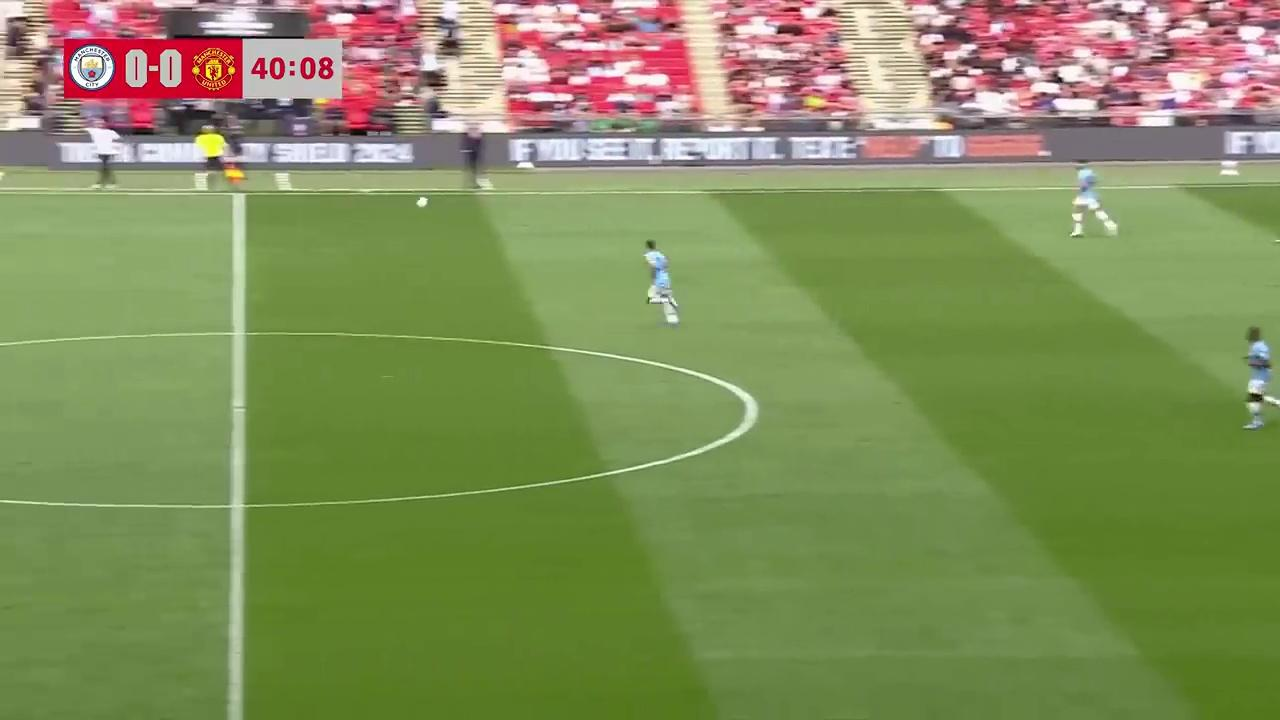ball: (414, 193, 429, 209)
player: (1242, 326, 1278, 431), (1069, 161, 1117, 238), (643, 239, 680, 326)
referee: (194, 128, 241, 191)
